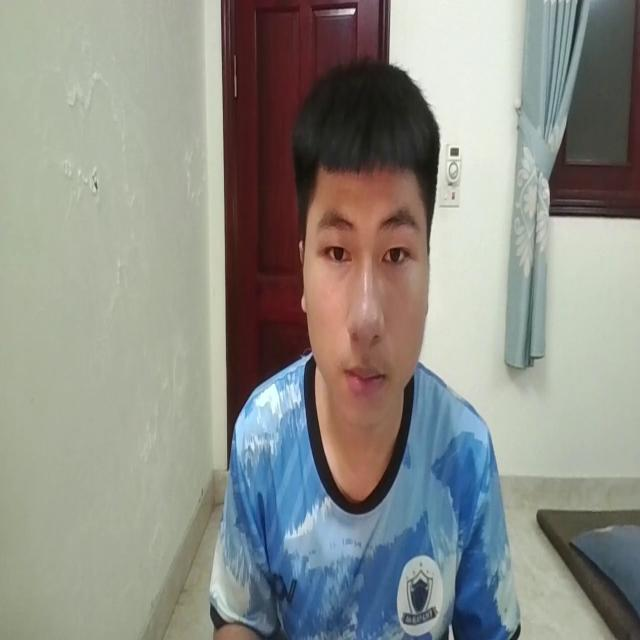student: (210, 52, 518, 640)
